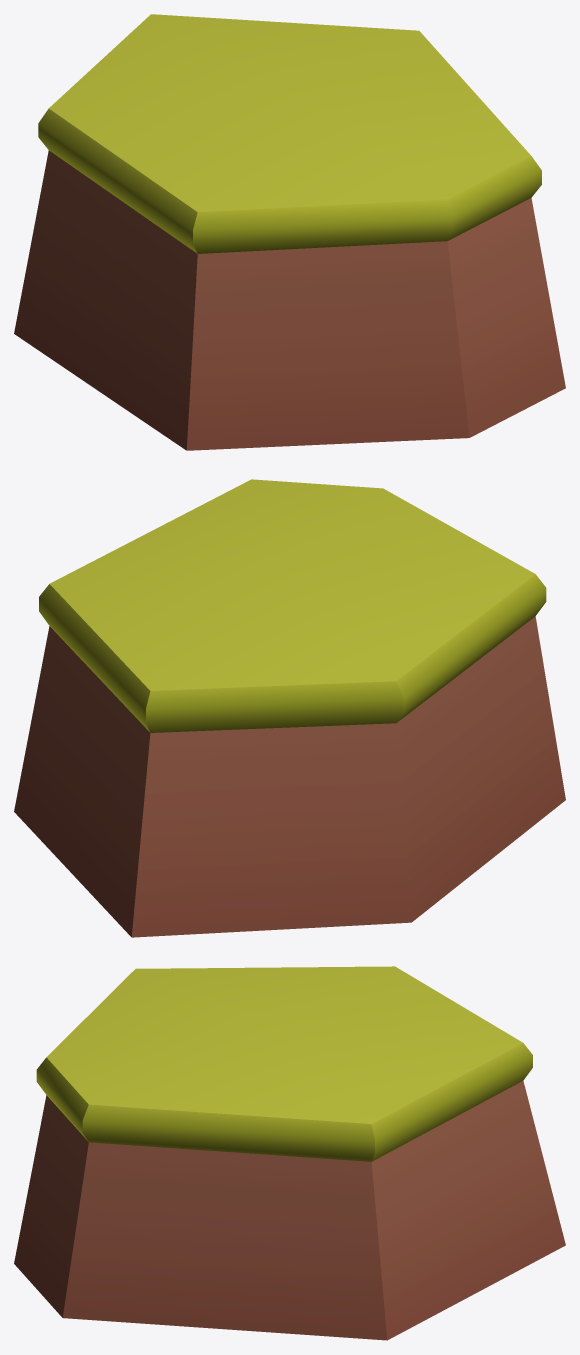
The model's file is kaykit-medieval-hexagon-pack-hill-single-c.glb.
3 renders of one model, top to bottom at view 1: azimuth 30°, elevation 25°; view 2: azimuth 150°, elevation 25°; view 3: azimuth 270°, elevation 25°, orthographic. The views are drawn at different scales.
Visible parts, largest first — view 1: hill_single_C; view 2: hill_single_C; view 3: hill_single_C.
Boxes of the visible parts, x1,y1,x2,y2 form: hill_single_C: [14, 14, 565, 450]; hill_single_C: [14, 479, 565, 937]; hill_single_C: [14, 966, 565, 1340].
Size of the model in its own units: 1.02 by 0.5886 by 1.32.
1 material, 1 textured.
